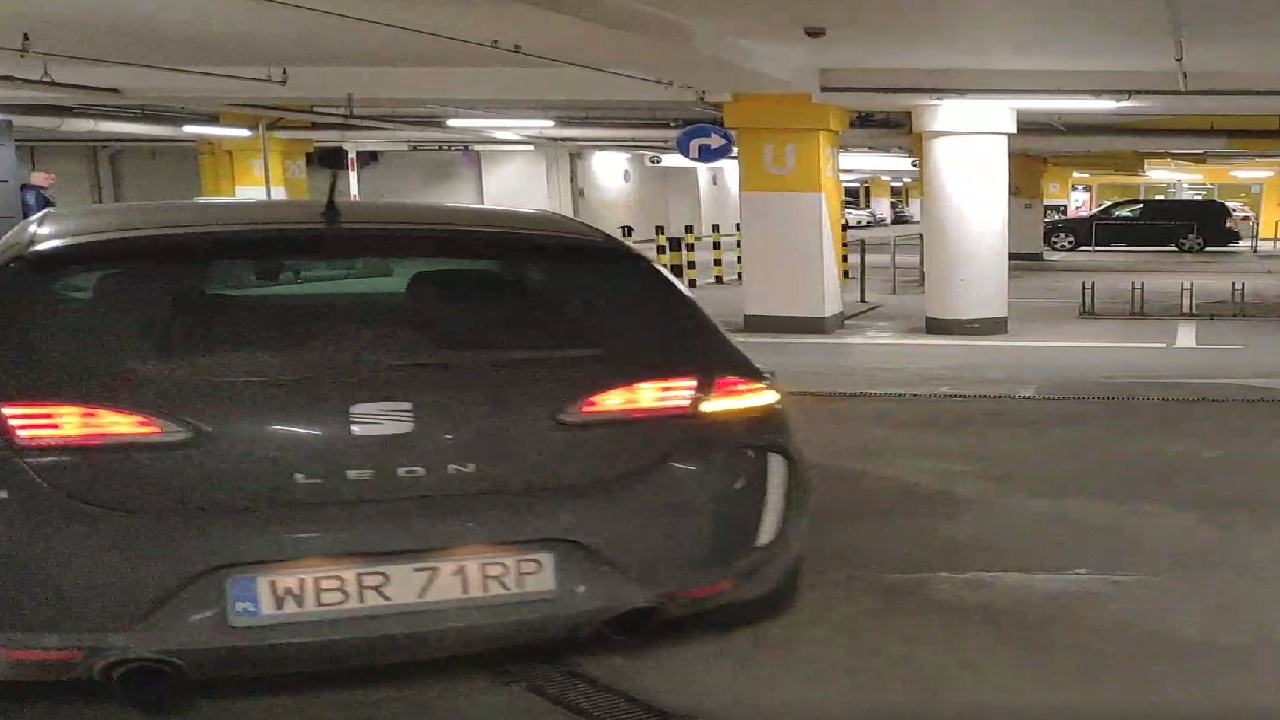C2: (666, 117, 740, 161)
